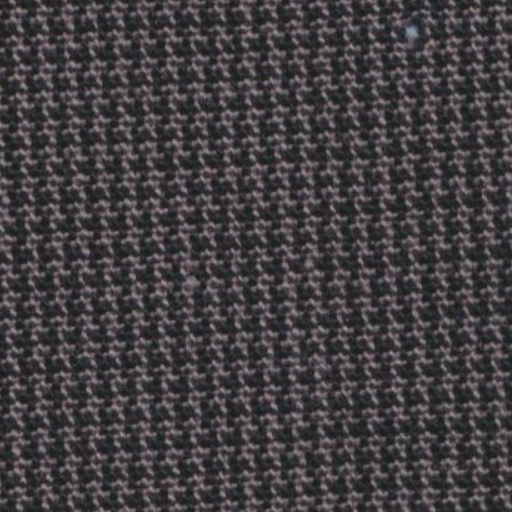PoDong: (376, 8, 448, 66)
